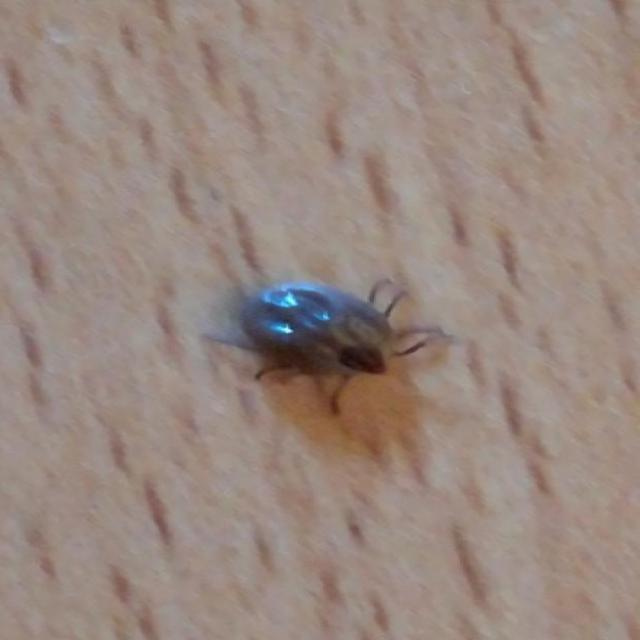Rhipicephalus Sanguineus-F-Fed: (216, 282, 437, 417)
